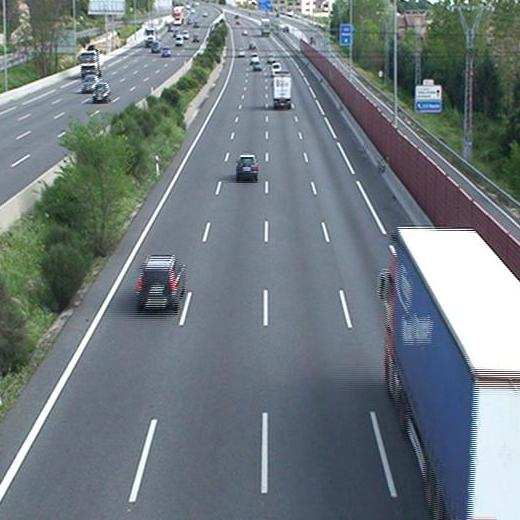car: (137, 256, 185, 312), (235, 154, 258, 181), (252, 60, 264, 72), (270, 61, 281, 73), (250, 51, 259, 61)
small-truck: (271, 71, 293, 108)
truck: (379, 227, 520, 520)
